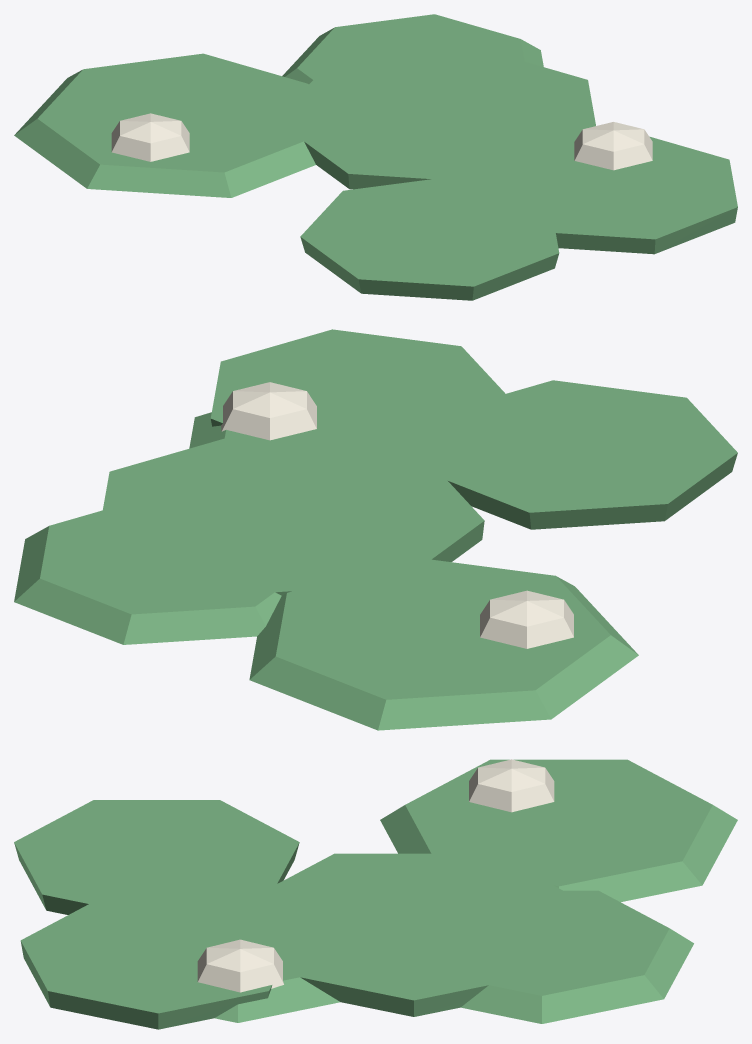
The model's file is town_lily_pads.glb.
3 views of the same model, one above another, from view 1: azimuth 30°, elevation 25°; view 2: azimuth 150°, elevation 25°; view 3: azimuth 270°, elevation 25° (orthographic). The views are drawn at different scales.
Parts seen in each view (by area): view 1: world; view 2: world; view 3: world.
Part boxes in pixels (bbox=[...]): world: bbox=[14, 14, 737, 300]; world: bbox=[14, 329, 737, 730]; world: bbox=[14, 759, 737, 1029].
Bounding box in the file's own units: 1.72 × 0.1927 × 2.
